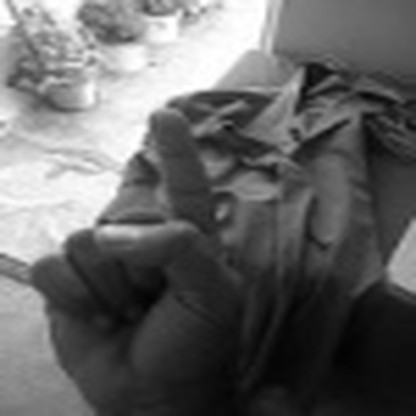d: (26, 102, 225, 416)
